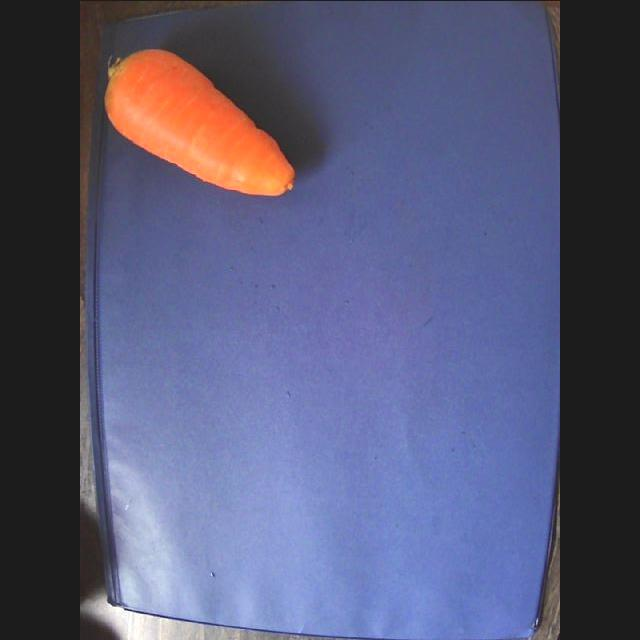zanahoria: (105, 49, 293, 194)
